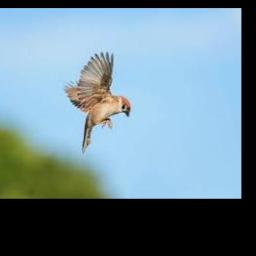Sparrow: (64, 52, 131, 153)
